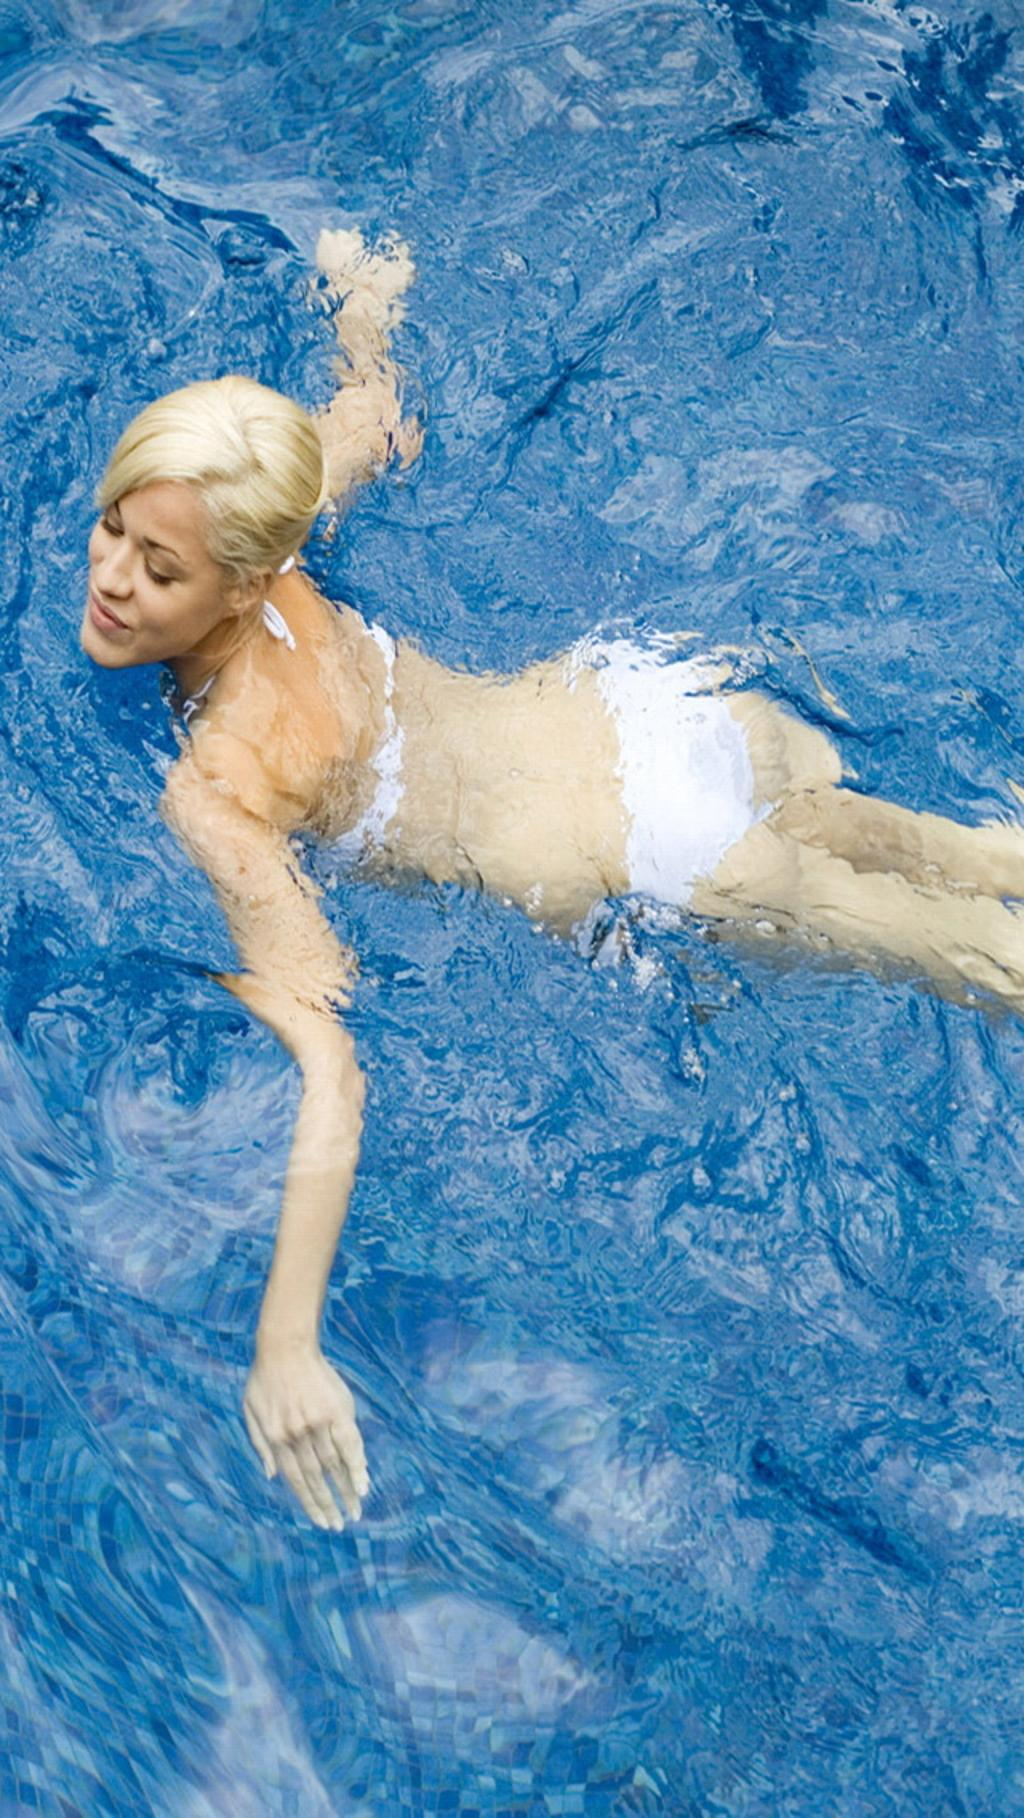face: (78, 498, 217, 658)
